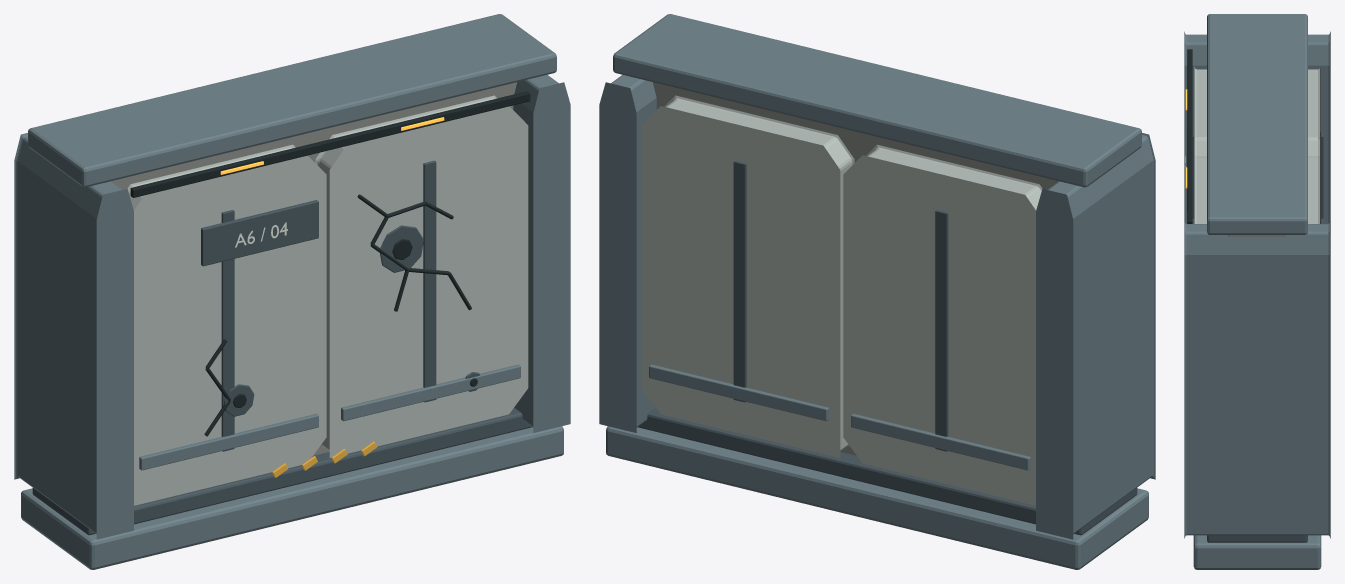
File: wall_standard_d1.glb
3 views of the same model, side by side, from view 1: azimuth 30°, elevation 25°; view 2: azimuth 150°, elevation 25°; view 3: azimuth 270°, elevation 25° (orthographic). The views are drawn at different scales.
Parts seen in each view (by area): view 1: Replaceable armor panel.003, Replaceable armor panel.002, End structural rib.002, Cap rail.001, Load-spreading footing.001, End structural rib.003, Footing top.001, Identification plate.001, Upper recessed service channel.001, Geopolymer core.001, Panel recessed spine.006, Panel lower reinforcement.004 (+3 smaller); view 2: Rear armor panel.003, Rear armor panel.002, End structural rib.002, Cap rail.001, Load-spreading footing.001, End structural rib.003, Footing top.001, Geopolymer core.001, Panel recessed spine.005, Panel recessed spine.007, Panel lower reinforcement.007, Panel lower reinforcement.005; view 3: End structural rib.003, Cap rail.001, Load-spreading footing.001, End structural rib.002, Rear armor panel.002, Replaceable armor panel.002, Upper recessed service channel.001, Rear armor panel.003, Replaceable armor panel.003, Footing top.001, Panel recessed spine.005, Panel recessed spine.004.
Part boxes in pixels (x1,y1,x2,y2): Replaceable armor panel.003: (315,95,528,457); Replaceable armor panel.002: (127,144,326,505); End structural rib.002: (14,133,133,539); Cap rail.001: (28,14,556,187); Load-spreading footing.001: (21,426,563,569); End structural rib.003: (513,74,570,432); Footing top.001: (32,407,532,535); Identification plate.001: (201,200,318,266); Upper recessed service channel.001: (130,91,530,197); Geopolymer core.001: (111,82,517,455); Panel recessed spine.006: (423,160,436,402); Panel lower reinforcement.004: (139,413,318,470); Rear armor panel.003: (641,95,854,457); Rear armor panel.002: (843,144,1042,505); End structural rib.002: (1036,133,1155,539); Cap rail.001: (613,14,1141,187); Load-spreading footing.001: (606,426,1148,569); End structural rib.003: (599,74,656,432); Footing top.001: (637,407,1137,535); Geopolymer core.001: (652,82,1058,455); Panel recessed spine.005: (935,210,948,451); Panel recessed spine.007: (733,160,746,402); Panel lower reinforcement.007: (649,364,828,421); Panel lower reinforcement.005: (851,413,1030,470); End structural rib.003: (1184,221,1330,538); Cap rail.001: (1207,14,1307,234); Load-spreading footing.001: (1193,535,1321,569); End structural rib.002: (1184,31,1330,223); Rear armor panel.002: (1308,66,1320,156); Replaceable armor panel.002: (1194,66,1206,156); Upper recessed service channel.001: (1187,49,1192,223); Rear armor panel.003: (1308,154,1320,223); Replaceable armor panel.003: (1194,154,1206,223); Footing top.001: (1207,535,1307,542); Panel recessed spine.005: (1320,131,1323,218); Panel recessed spine.004: (1192,131,1194,218).
Bounding box in the file's own units: 4 × 3.2 × 1.2.
